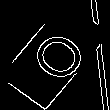O_SE: (19, 22, 91, 88)
